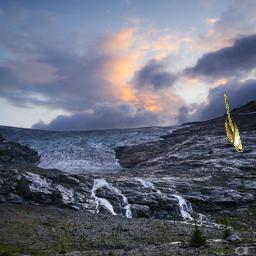Cuckoo: (224, 94, 244, 153)
